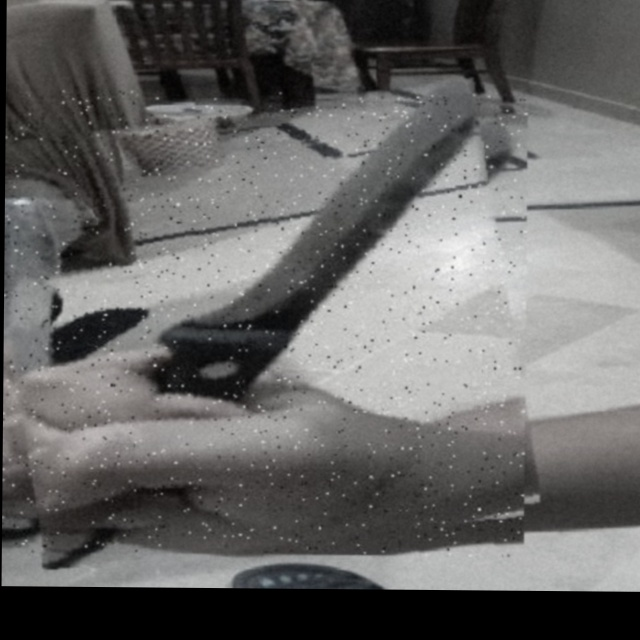Sharp-Object: (2, 90, 527, 557)
